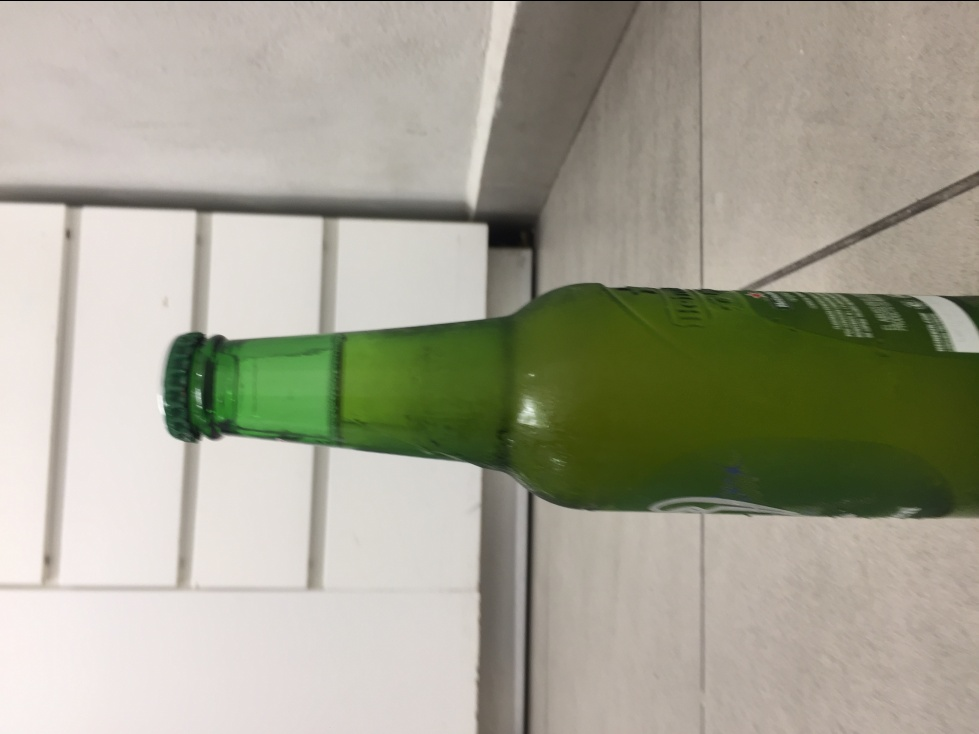heineken: (154, 279, 979, 523)
